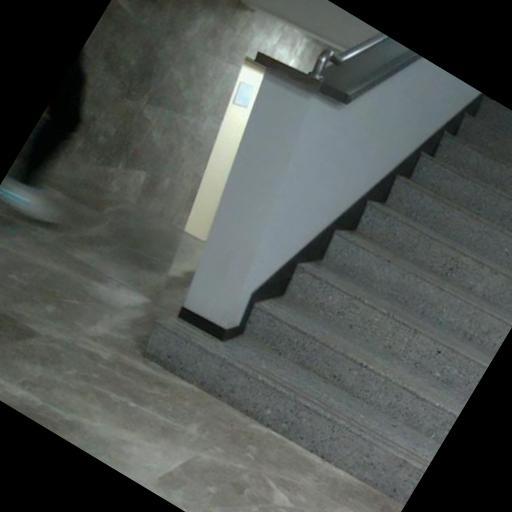stairs: (146, 100, 511, 503)
